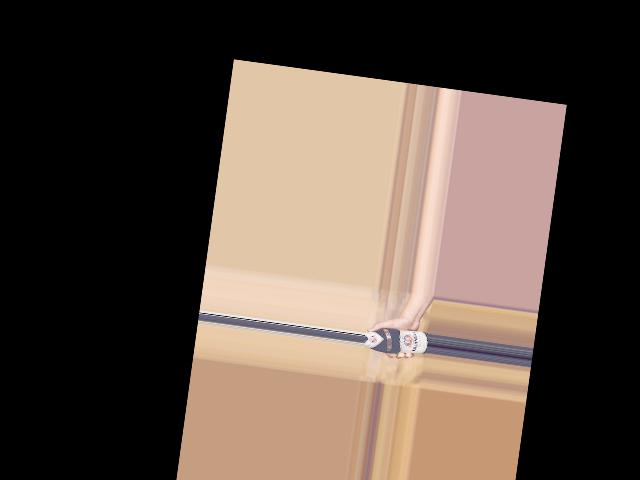beer: (363, 323, 429, 358)
